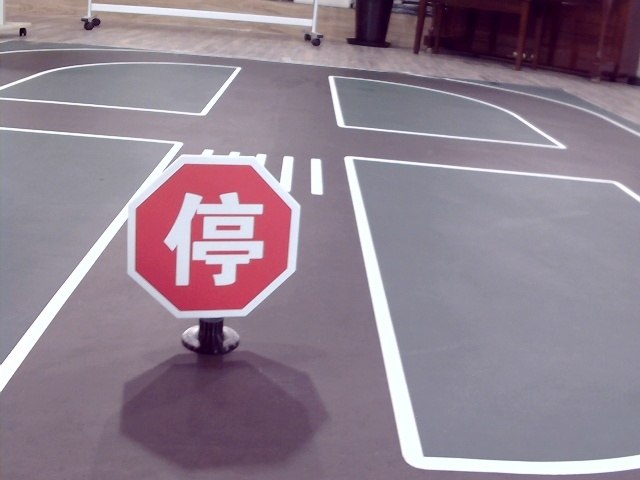stop: (167, 186, 264, 284)
